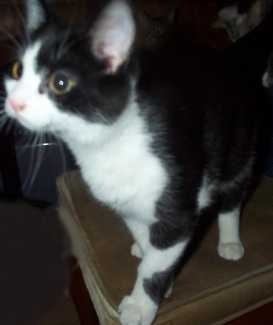Cat: (4, 0, 272, 315)
